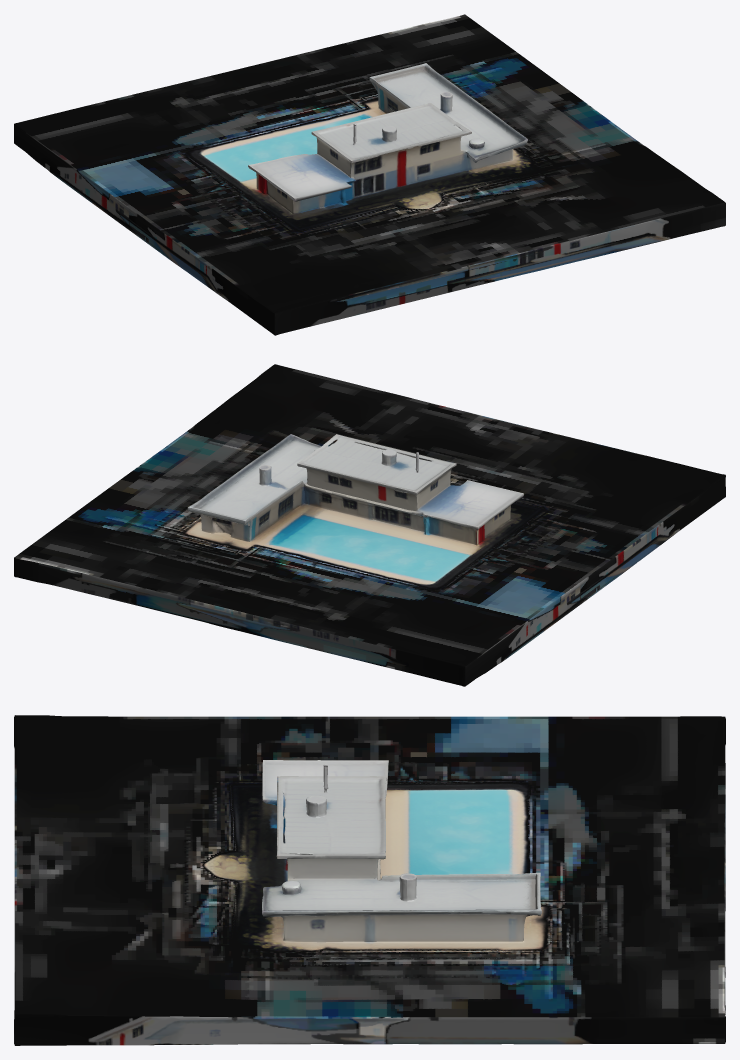
Rendered from motel.glb.
3 renders of one model, top to bottom at view 1: azimuth 30°, elevation 25°; view 2: azimuth 150°, elevation 25°; view 3: azimuth 270°, elevation 25°, orthographic. The views are drawn at different scales.
Parts seen in each view (by area): view 1: geometry_0; view 2: geometry_0; view 3: geometry_0.
Part boxes in pixels (x1,y1,x2,y2): geometry_0: (14, 14, 725, 335); geometry_0: (14, 364, 725, 686); geometry_0: (14, 715, 725, 1045).
Size of the model in its own units: 1 by 0.1741 by 1.
1 material, 1 textured.
